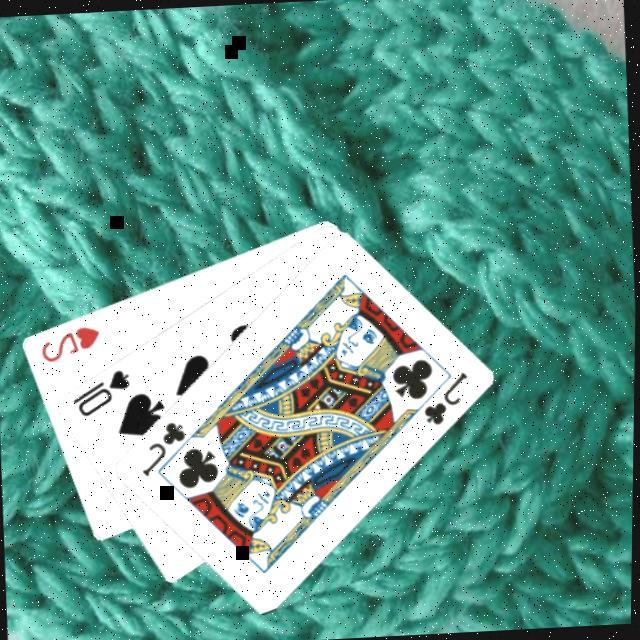10S: (68, 363, 138, 418)
2H: (38, 320, 107, 365)
JC: (420, 365, 476, 428), (138, 415, 193, 478)
